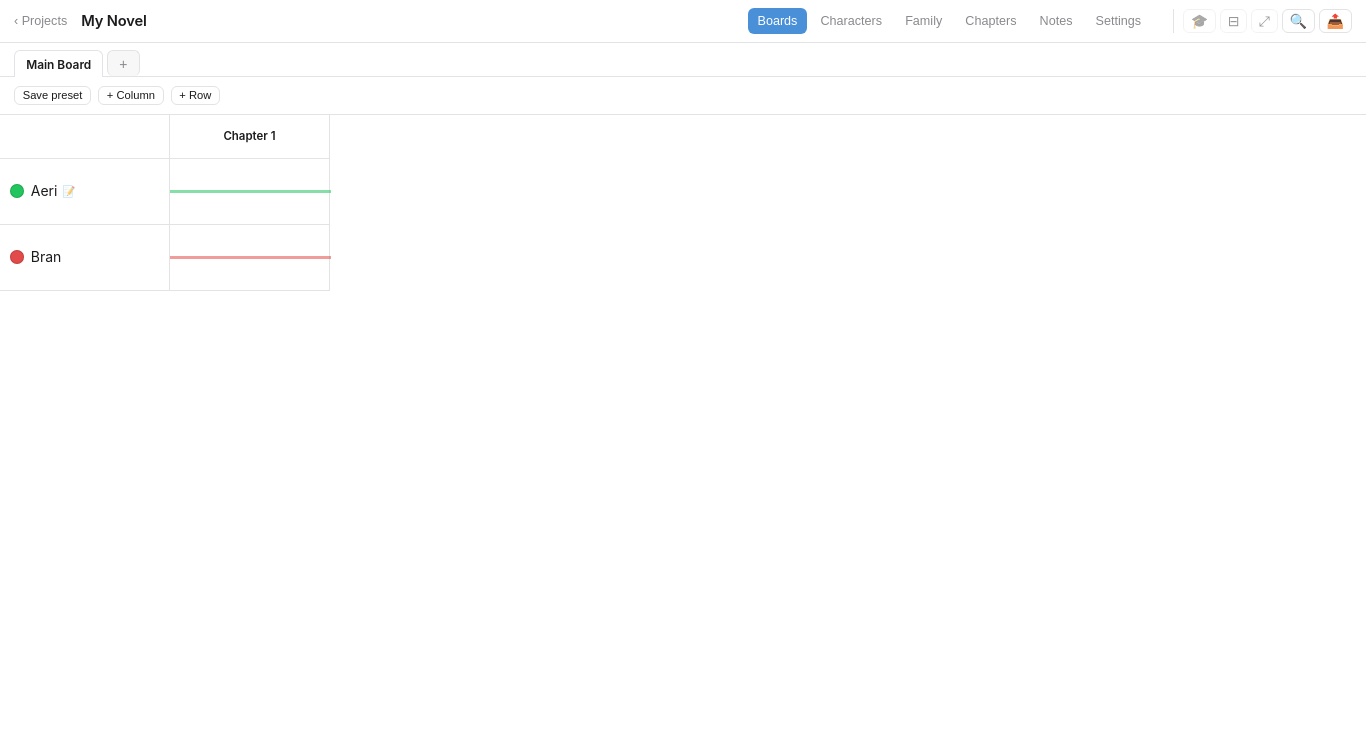
Test case: the board’s character note popup › sends Edit to the Characters tab with the character selected
Expected: the heading "My Novel" is shown, [81,12,147,30]
Expected: the text "Bran" is shown, [31,248,61,266]
Click the button titled "Read Aeri’s note" at (92, 191), box [31,182,154,200]
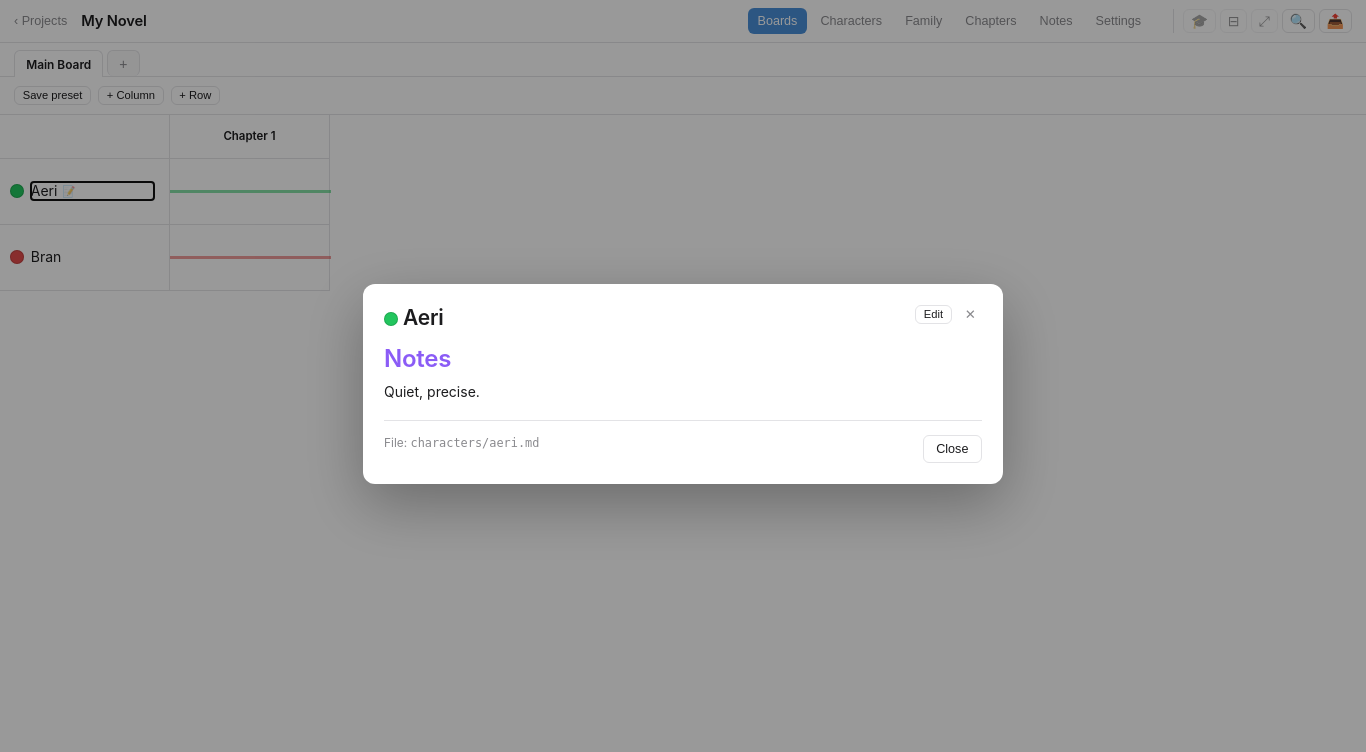
Expected: the text "Quiet, precise." is shown, [384,383,480,400]
Click the button "Edit" at (934, 314), box [915,305,952,324]
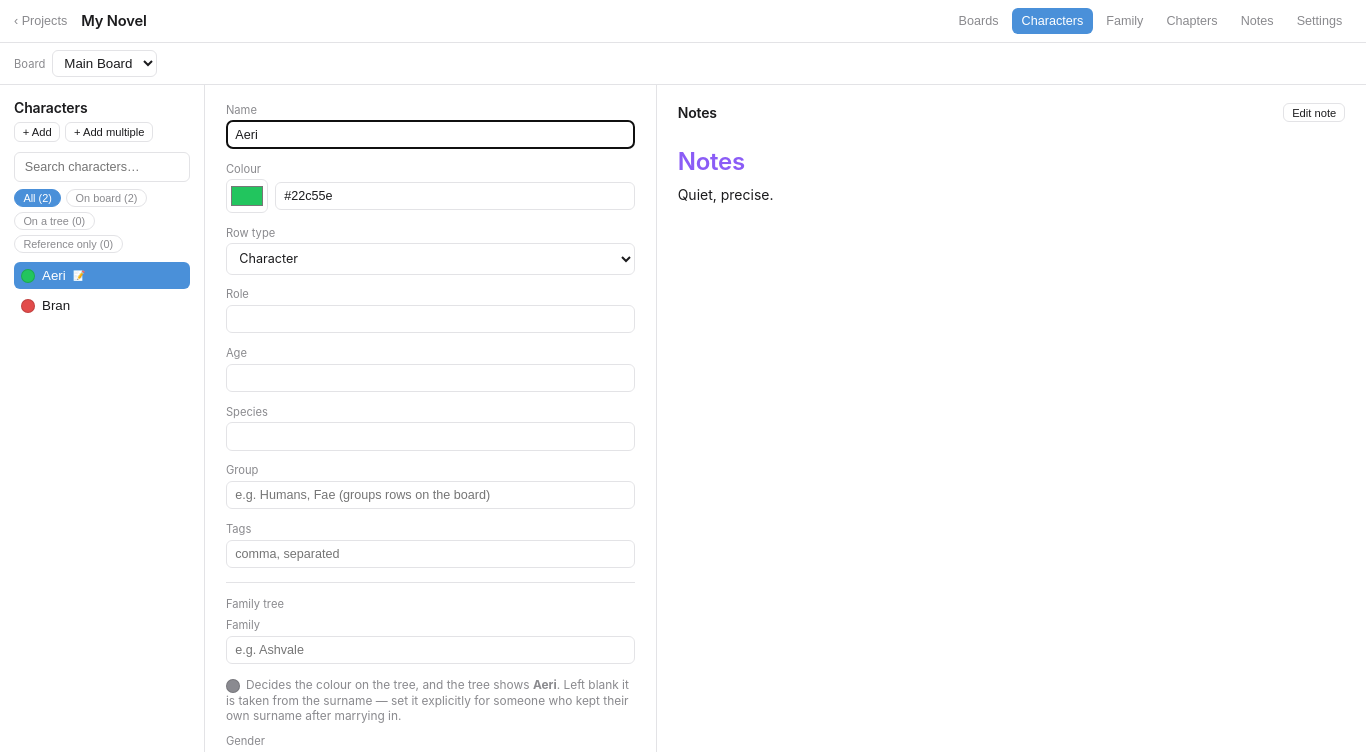
Expected: the text "Quiet, precise." is shown, [678,186,774,203]
Expected: the 1st field showing "Aeri" is shown, [226,120,635,149]
